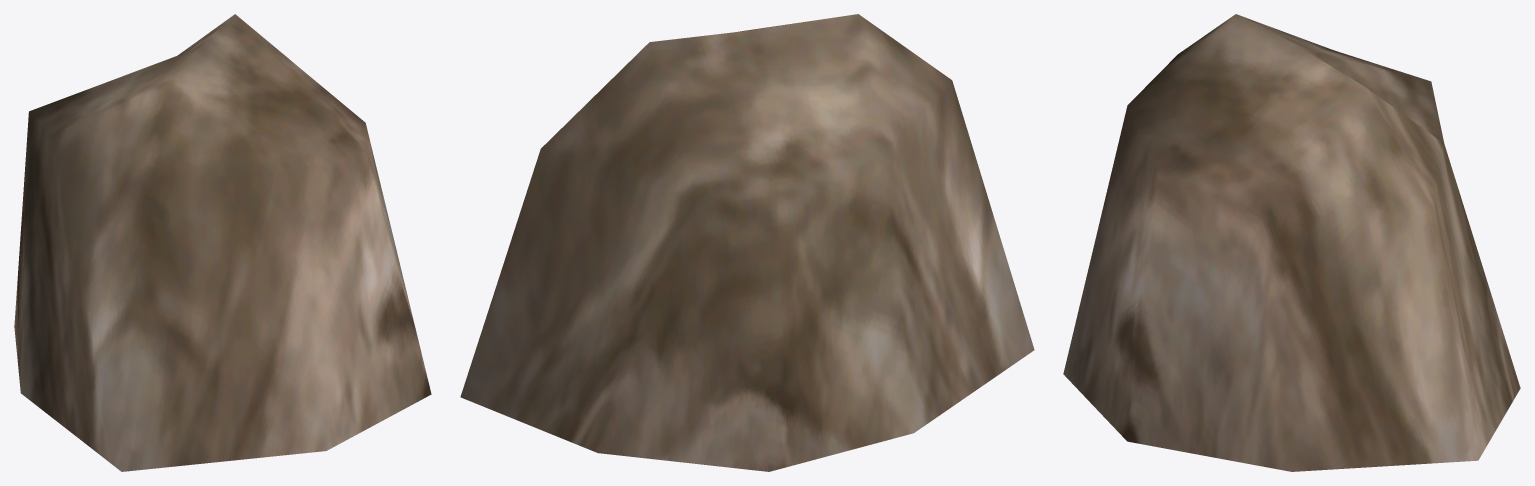
The model's file is OVERHILL_A_01_ROCK59.fbx.
3 renders of one model, left to right at view 1: azimuth 30°, elevation 25°; view 2: azimuth 150°, elevation 25°; view 3: azimuth 270°, elevation 25°, orthographic. The views are drawn at different scales.
Visible parts, largest first — view 1: OVERHILL_A_01_ROCK59; view 2: OVERHILL_A_01_ROCK59; view 3: OVERHILL_A_01_ROCK59.
Part boxes in pixels (x1,y1,x2,y2): OVERHILL_A_01_ROCK59: (14, 14, 431, 471); OVERHILL_A_01_ROCK59: (460, 14, 1034, 471); OVERHILL_A_01_ROCK59: (1063, 14, 1520, 471).
Size of the model in its own units: 5185 by 4289 by 5450.
Materials: 1 (1 with a texture image).
